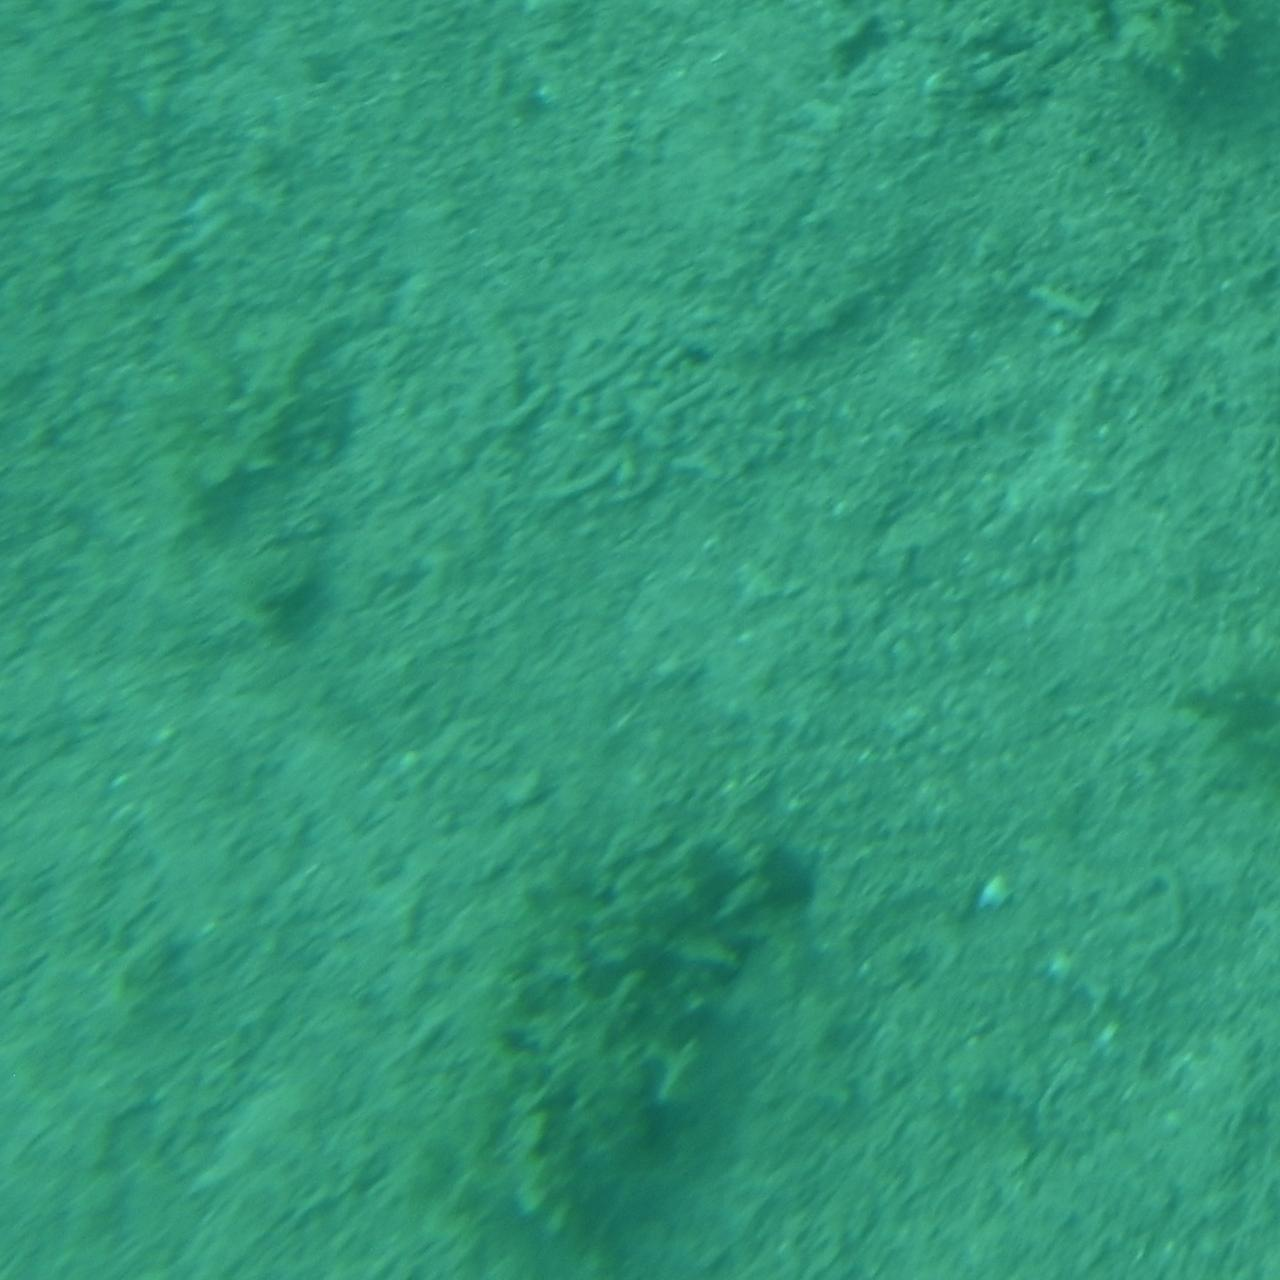Phaeophyceae -cfr Cystoseira-: (451, 829, 829, 1259)
